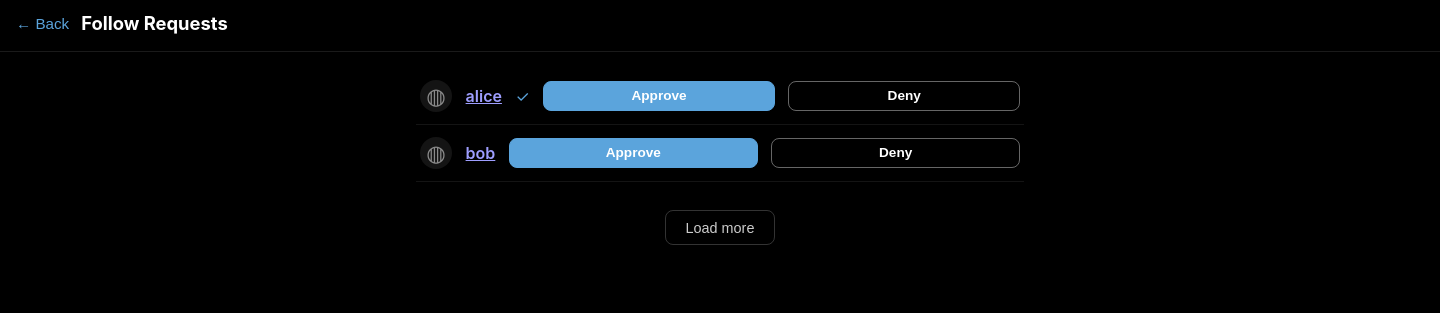
Test case: a failed decision keeps the row and shows the error
Click the button with aria-label "Approve alice". click: [659, 96]
box: [543,81,775,111]
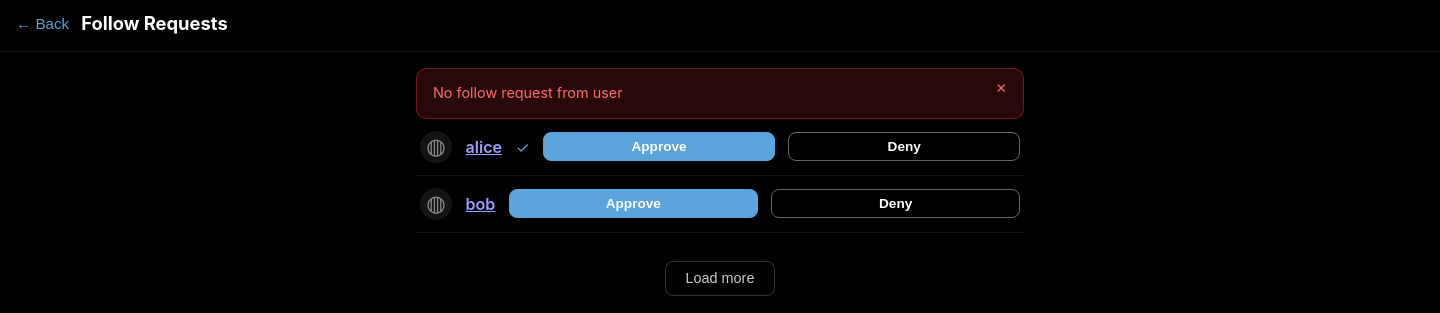
Expected: the link "alice" is shown, [466,135,502,159]
Now the message shows "No follow request from user", box [433,84,622,101]
